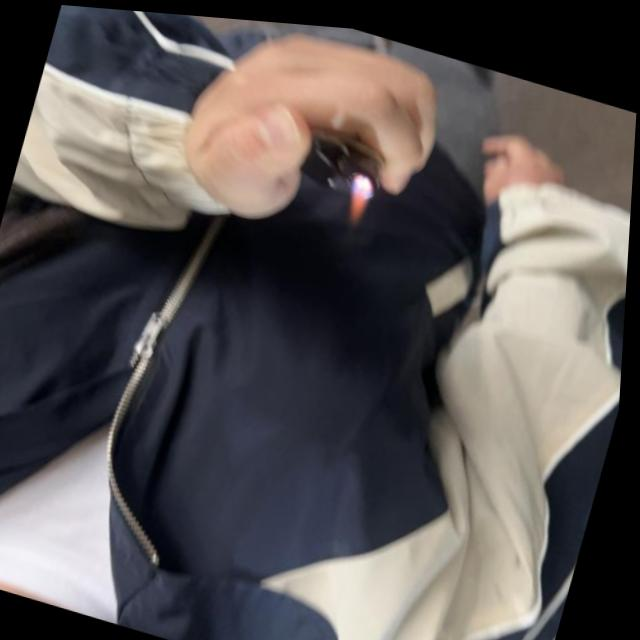Fire: (340, 163, 380, 224)
